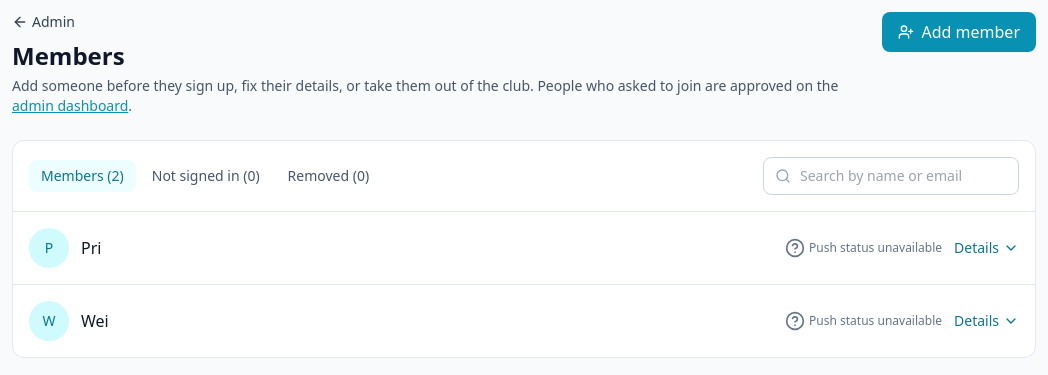
Test: the roll › searches across name, nickname and email
The image size is (1048, 375).
Expected: the text "Pri" is shown, 81,237 -> 101,259
Type "wei@" into the search field at (891, 176), box 763,157 -> 1019,195
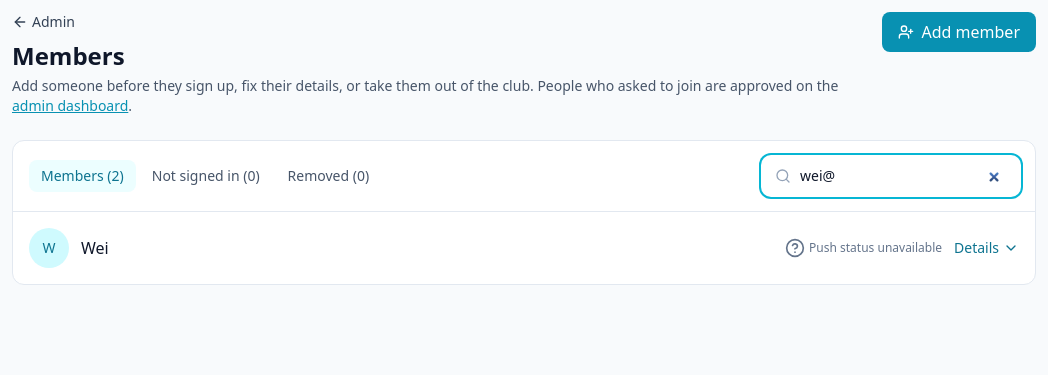
Expected: the text "Wei" is shown, 81,237 -> 109,259
Now the button "Pri" is gone
